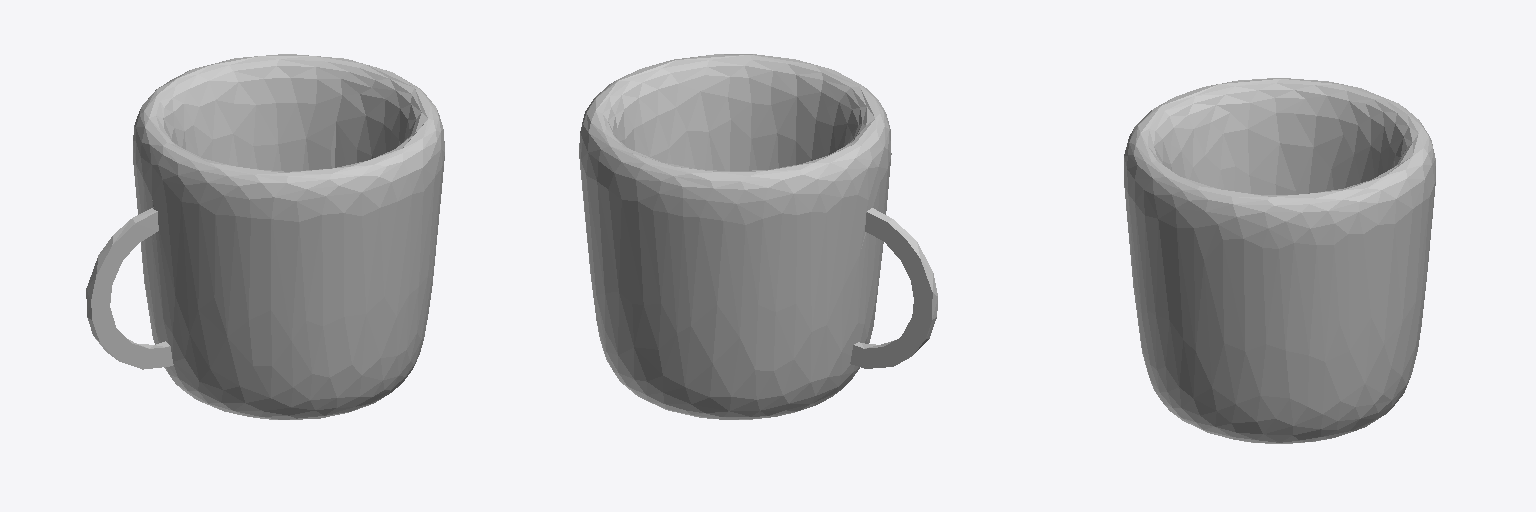
Rendered from cupOfCoffee.obj.
The picture shows the model from 3 angles: view 1: azimuth 30°, elevation 25°; view 2: azimuth 150°, elevation 25°; view 3: azimuth 270°, elevation 25°; orthographic projection.
Visible parts, largest first — view 1: Interno_Tazza_Cerchio; view 2: Interno_Tazza_Cerchio; view 3: Interno_Tazza_Cerchio.
Part boxes in pixels (x1,y1,x2,y2): Interno_Tazza_Cerchio: (86, 54, 444, 419); Interno_Tazza_Cerchio: (579, 54, 937, 419); Interno_Tazza_Cerchio: (1124, 78, 1435, 443).
Size of the model in its own units: 8.07 by 6.18 by 6.51.